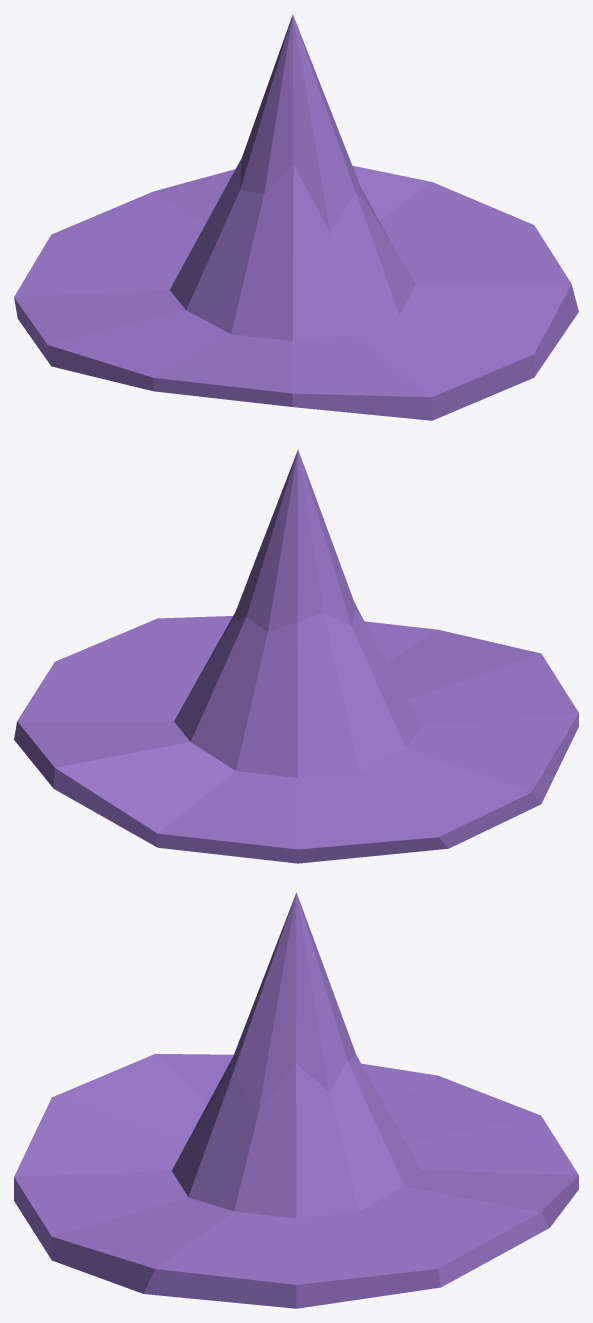
Rendered from witch_hat_1_mat.fbx.
3 renders of one model, top to bottom at view 1: azimuth 30°, elevation 25°; view 2: azimuth 150°, elevation 25°; view 3: azimuth 270°, elevation 25°, orthographic.
Visible parts, largest first — view 1: witch_hat_1_mat; view 2: witch_hat_1_mat; view 3: witch_hat_1_mat.
Boxes of the visible parts, x1,y1,x2,y2 form: witch_hat_1_mat: (14, 14, 578, 420); witch_hat_1_mat: (14, 450, 578, 863); witch_hat_1_mat: (14, 892, 578, 1308).
Size of the model in its own units: 265 by 159 by 265.
